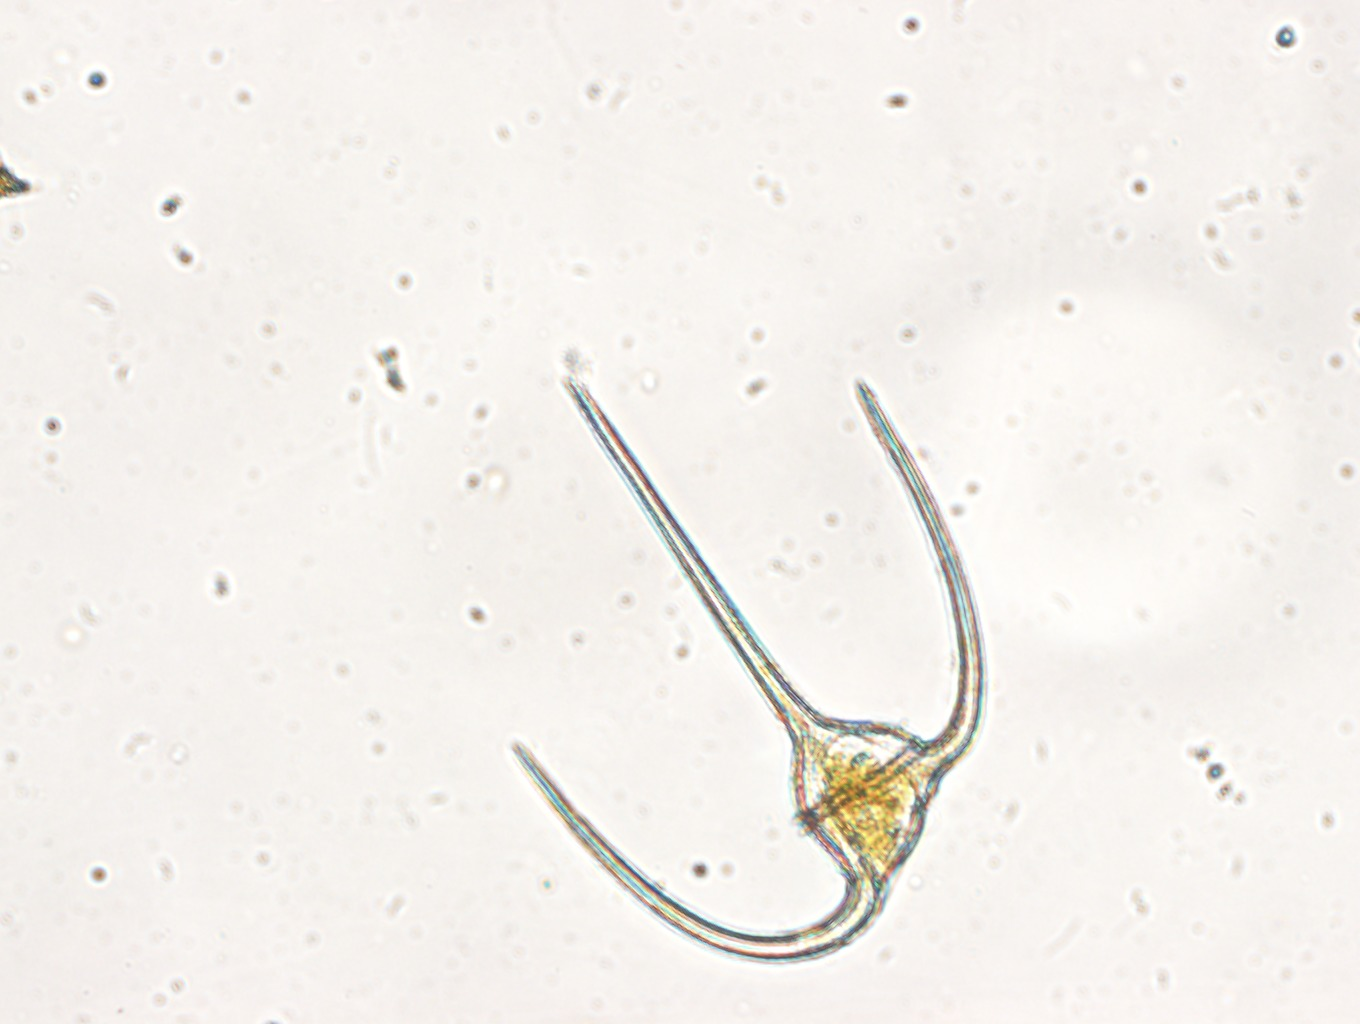ceratium trichoceros: (486, 368, 990, 972)
